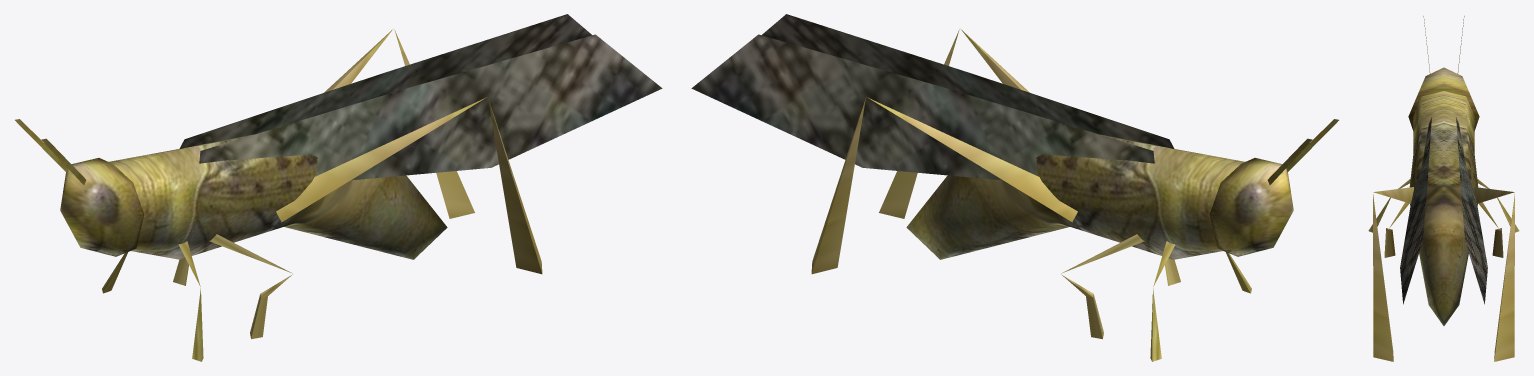
File: locust.glb
3 views of the same model, side by side, from view 1: azimuth 30°, elevation 25°; view 2: azimuth 150°, elevation 25°; view 3: azimuth 270°, elevation 25° (orthographic). The views are drawn at different scales.
Parts seen in each view (by area): view 1: Cylinder; view 2: Cylinder; view 3: Cylinder.
Boxes of the visible parts, <box> form: Cylinder: <box>15,14,662,361</box>; Cylinder: <box>691,14,1338,361</box>; Cylinder: <box>1368,16,1519,361</box>.
Size of the model in its own units: 6.76 by 2.41 by 1.92.
Materials: 1 (1 with a texture image).
